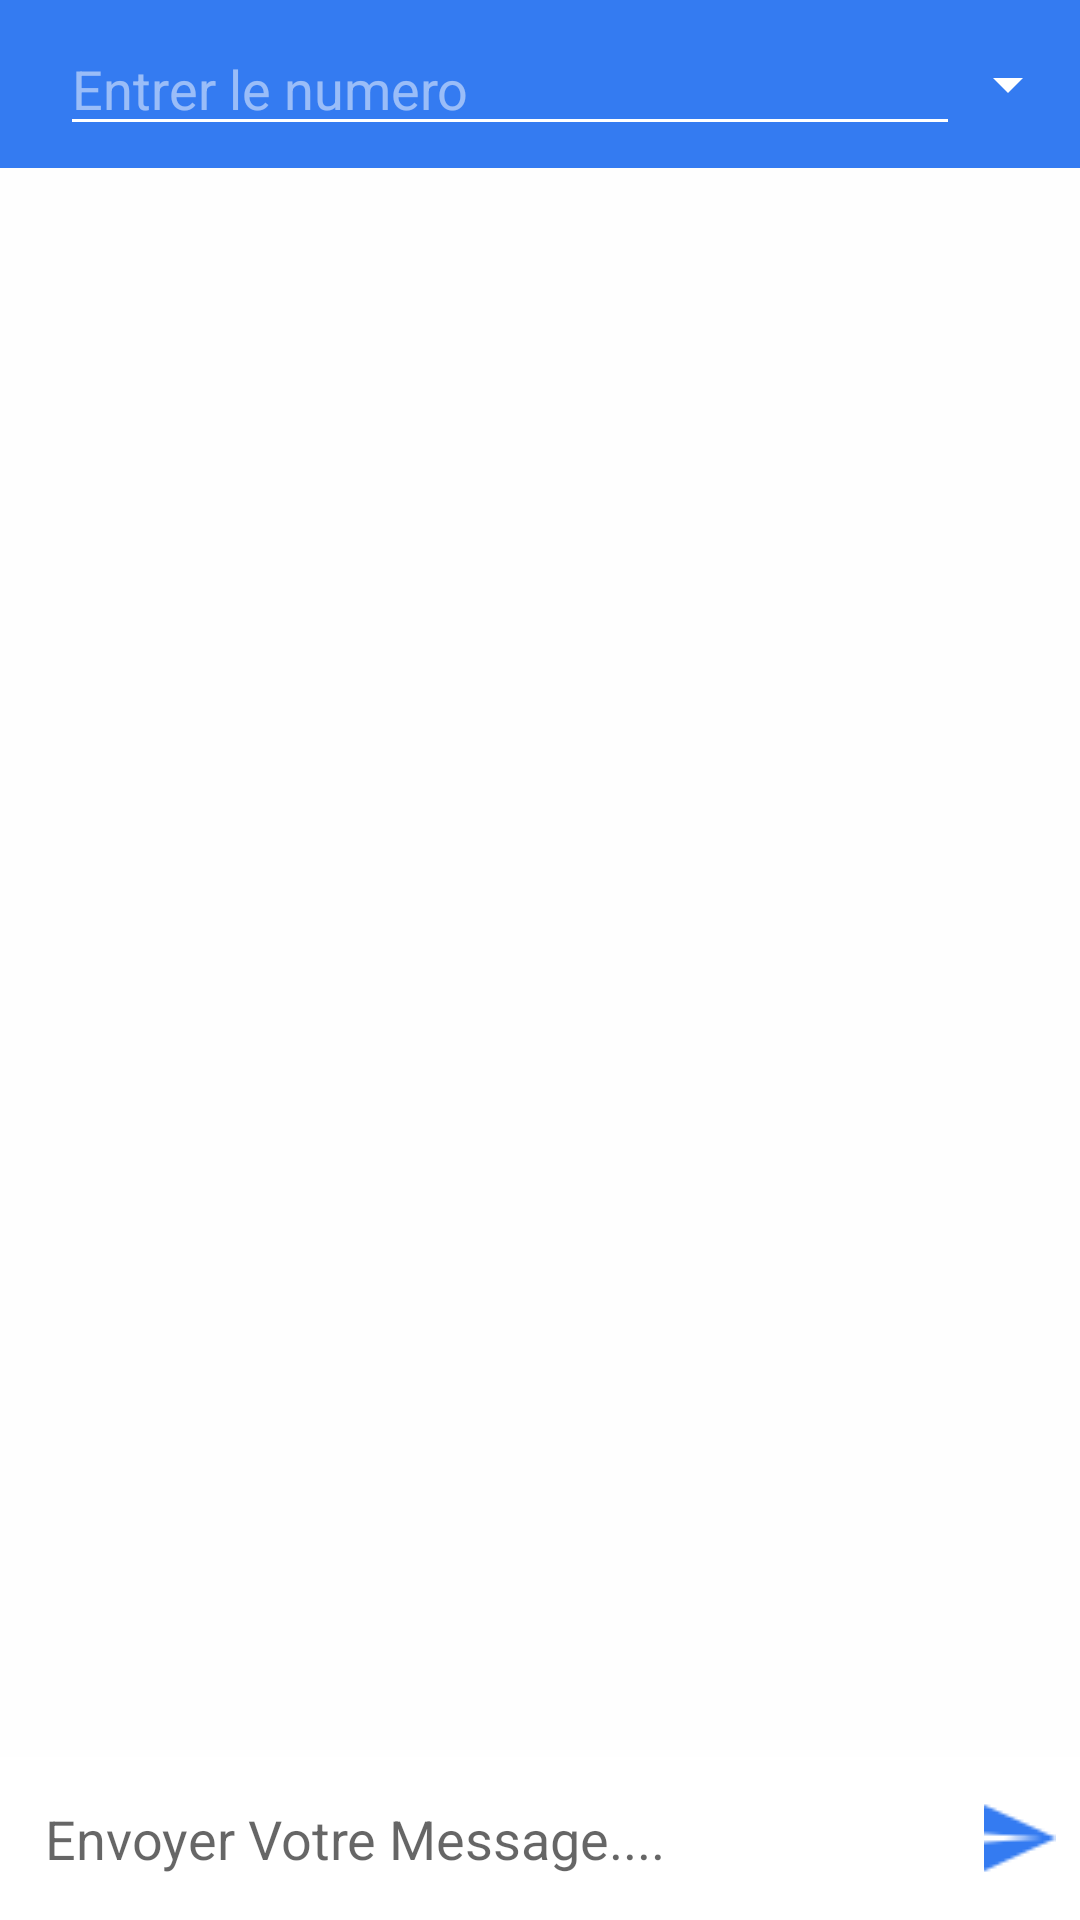

Screen size 1080px x 1920px. Icon name, then its center in pixels as point (x, y):
sendbtn: point (1020, 1838)
